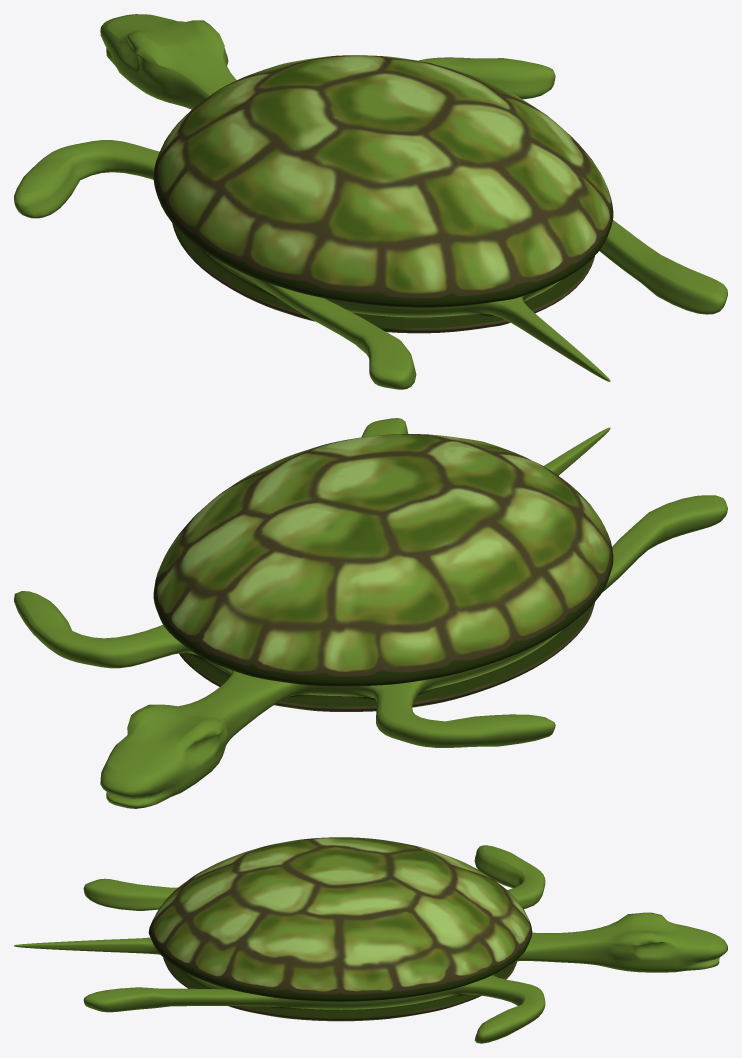
Rendered from turtle.obj.
The picture shows the model from 3 angles, top to bottom: view 1: azimuth 30°, elevation 25°; view 2: azimuth 150°, elevation 25°; view 3: azimuth 270°, elevation 25°; orthographic projection. The views are drawn at different scales.
Visible parts, largest first — view 1: polySurface10 polySurface1; view 2: polySurface10 polySurface1; view 3: polySurface10 polySurface1.
Boxes of the visible parts, x1=… form: polySurface10 polySurface1: x1=14, y1=14, x2=727, y2=389; polySurface10 polySurface1: x1=14, y1=418, x2=727, y2=808; polySurface10 polySurface1: x1=14, y1=837, x2=727, y2=1043.
Size of the model in its own units: 106 by 28.77 by 169.
Materials: 1 (1 with a texture image).
